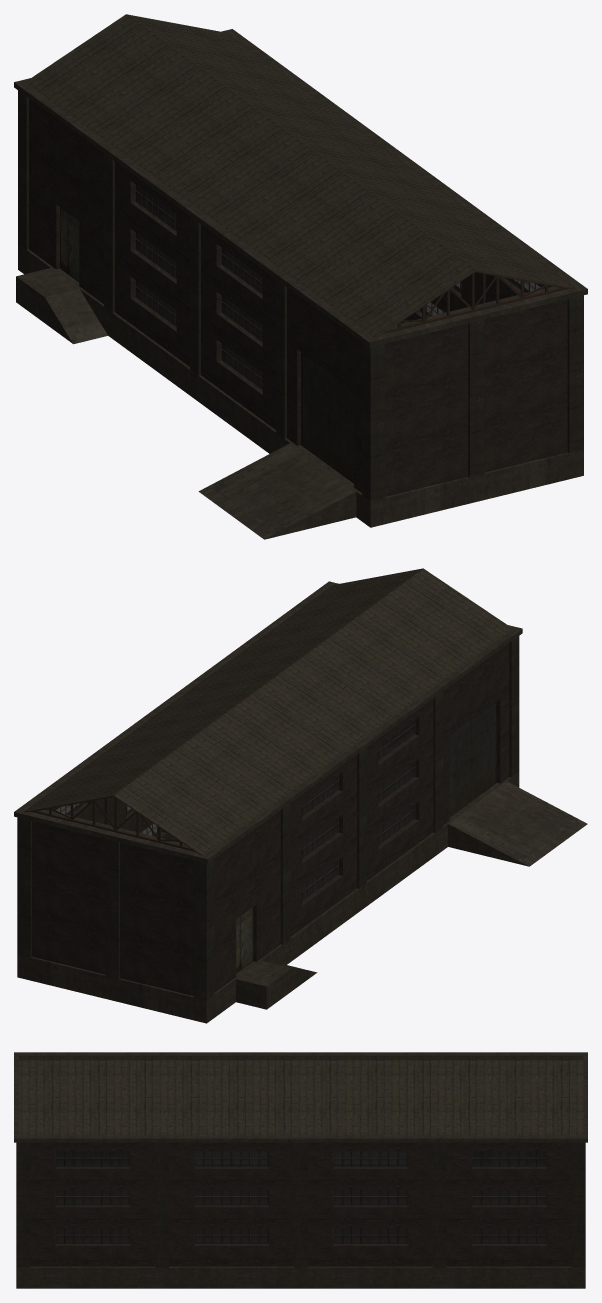
Rendered from warehouse_mx_4.glb.
3 views of the same model, one above another, from view 1: azimuth 30°, elevation 25°; view 2: azimuth 150°, elevation 25°; view 3: azimuth 270°, elevation 25° (orthographic). The views are drawn at different scales.
Parts seen in each view (by area): view 1: warehouse_mx_4, garage_door_hr_4_a_piece_1, garage_door_hr_4_a_piece_2, door_hm_1_a_piece_2; view 2: warehouse_mx_4, garage_door_hr_4_a_piece_2, garage_door_hr_4_a_piece_1, door_hm_1_a_piece_2; view 3: warehouse_mx_4, garage_door_hr_4_a_piece_2, garage_door_hr_4_a_piece_1.
Part boxes in pixels (x1,y1,x2,y2): warehouse_mx_4: (14, 14, 587, 539); garage_door_hr_4_a_piece_1: (301, 352, 328, 465); garage_door_hr_4_a_piece_2: (329, 373, 353, 483); door_hm_1_a_piece_2: (68, 214, 79, 282); warehouse_mx_4: (14, 568, 587, 1023); garage_door_hr_4_a_piece_2: (471, 701, 496, 800); garage_door_hr_4_a_piece_1: (450, 719, 471, 816); door_hm_1_a_piece_2: (240, 907, 253, 969); warehouse_mx_4: (14, 1052, 587, 1288); garage_door_hr_4_a_piece_2: (56, 1152, 91, 1164); garage_door_hr_4_a_piece_1: (94, 1152, 128, 1164).
Bounding box in the file's own units: 12.4 × 8.87 × 24.8.
9 materials, 9 textured.
